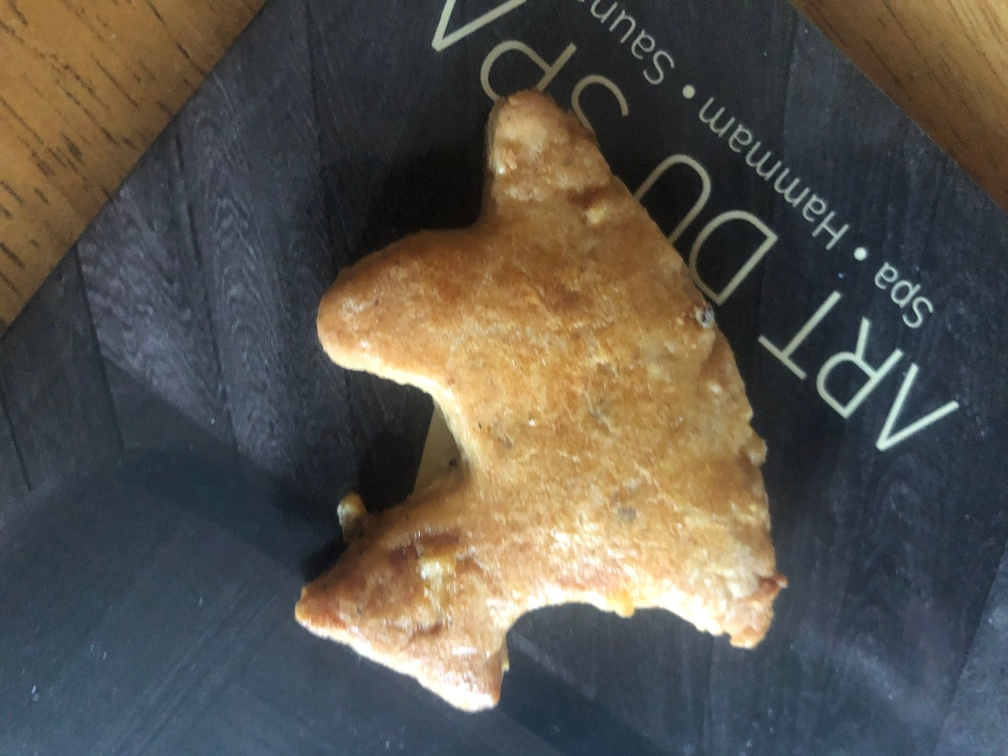lamb: (266, 75, 801, 720)
